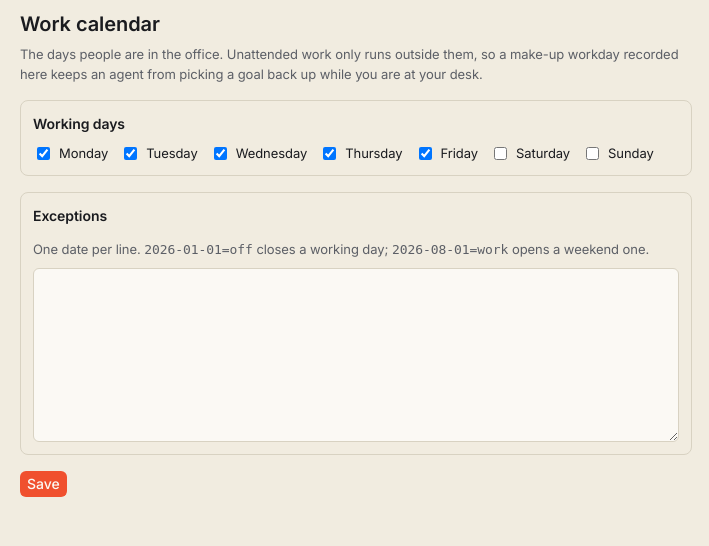
WorkCalendarPage › refuses to save a line it could not read, and says which
Type "2026-13-99=off" into the text box with test id "calendar-overrides" at (356, 355), box [33,268,679,442]
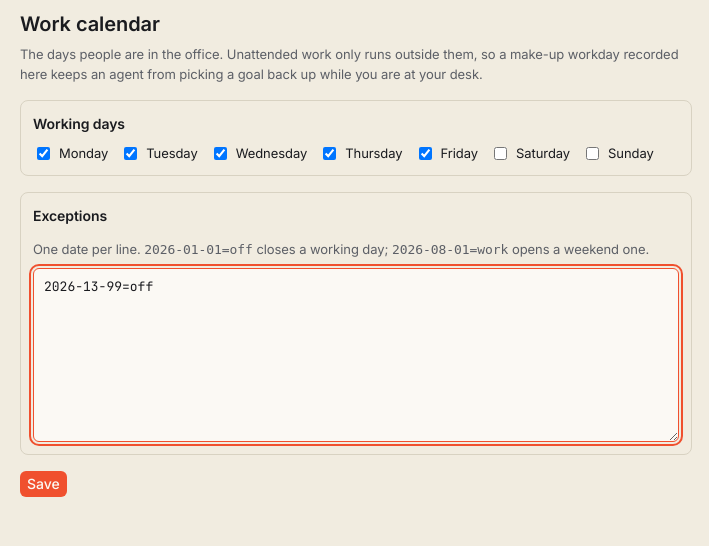
Click the button "Save" at (43, 484), box [20,471,67,497]
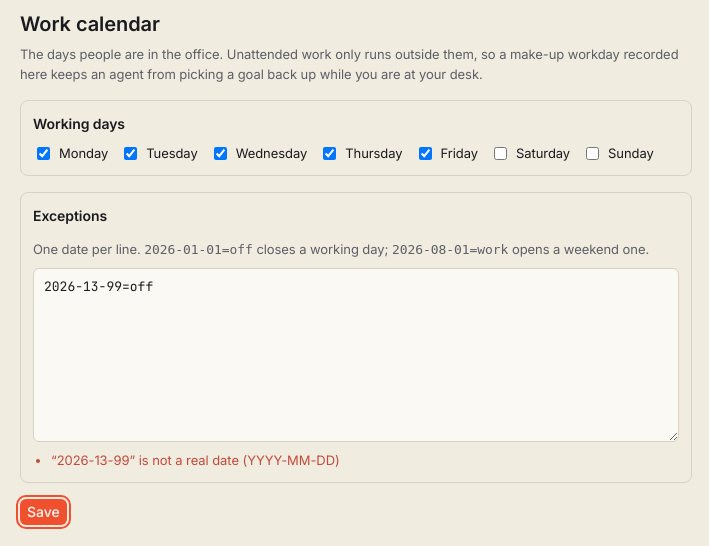
expect the list with test id "calendar-errors" shows "2026-13-99": met, box [51,452,340,468]
